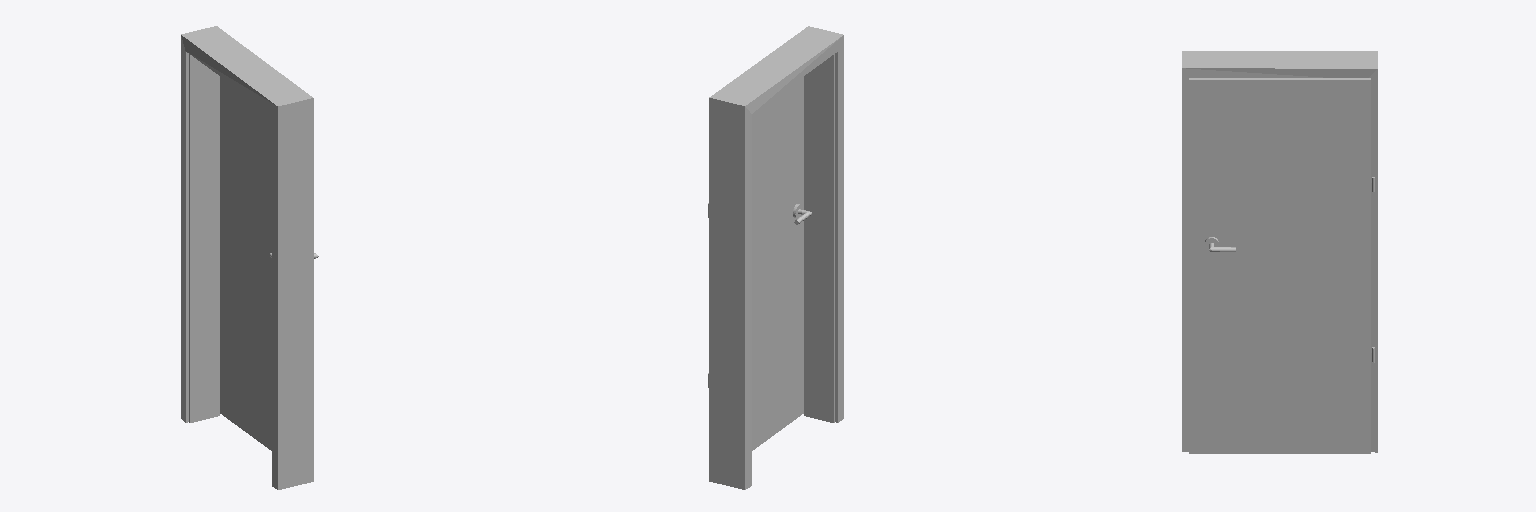
Rendered from door112.obj.
3 renders of one model, left to right at view 1: azimuth 30°, elevation 25°; view 2: azimuth 150°, elevation 25°; view 3: azimuth 270°, elevation 25°, orthographic.
Visible parts, largest first — view 1: Cylinder.005, Cylinder.001; view 2: Cylinder.005, Cylinder.001; view 3: Cylinder.001, Cylinder.005.
Boxes of the visible parts, box(x1,y1,x2,y2) form: Cylinder.005: box(181, 26, 313, 489); Cylinder.001: box(220, 77, 271, 450); Cylinder.005: box(708, 26, 843, 489); Cylinder.001: box(708, 77, 803, 450); Cylinder.001: box(1189, 78, 1374, 453); Cylinder.005: box(1182, 51, 1377, 452).
Size of the model in its own units: 0.3039 by 2.05 by 0.95.